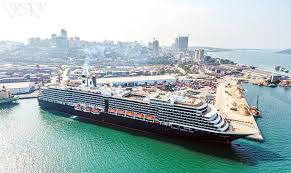tau_dansu: (35, 85, 251, 148)
